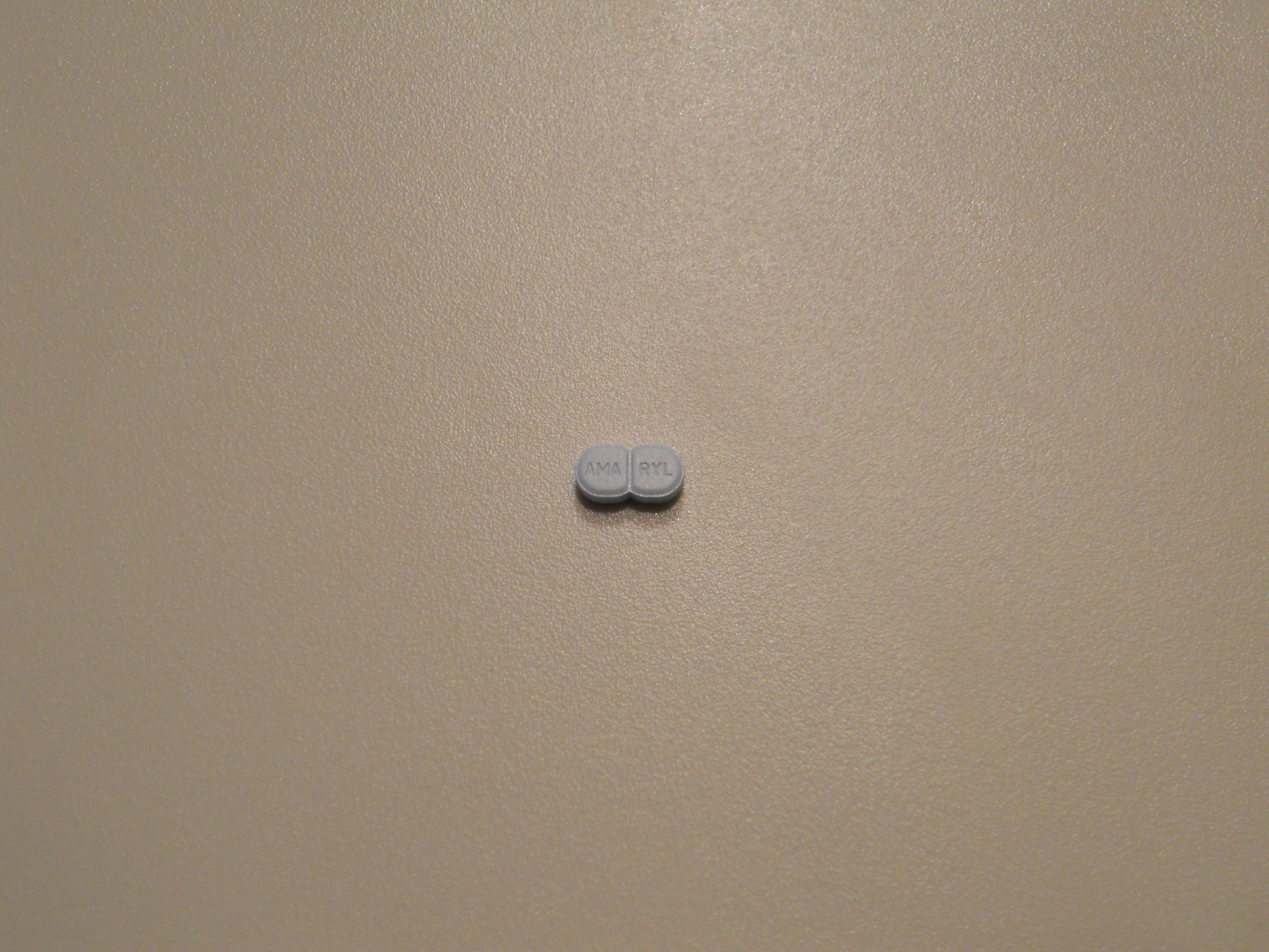Pill: (547, 420, 702, 524)
